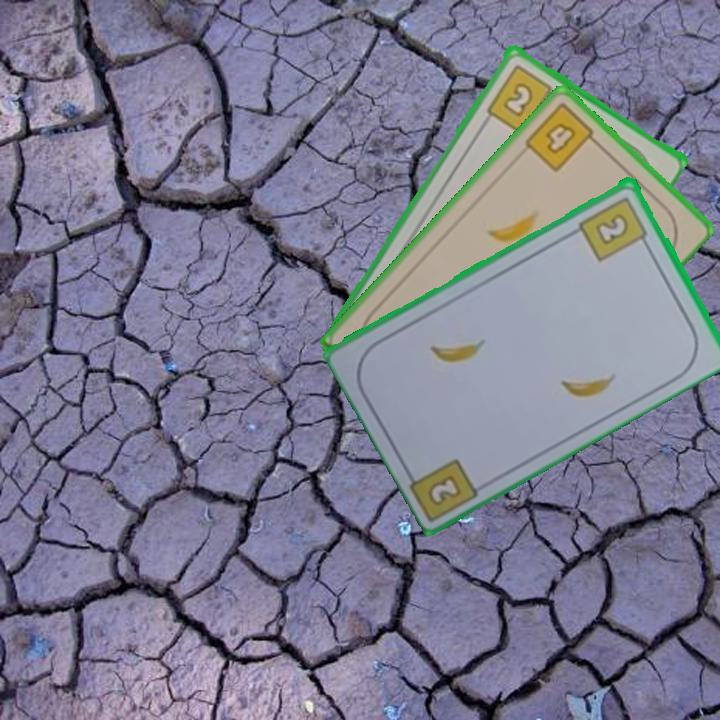2b: (482, 60, 562, 136), (575, 192, 652, 264), (424, 471, 465, 509)
4b: (521, 98, 603, 175)
